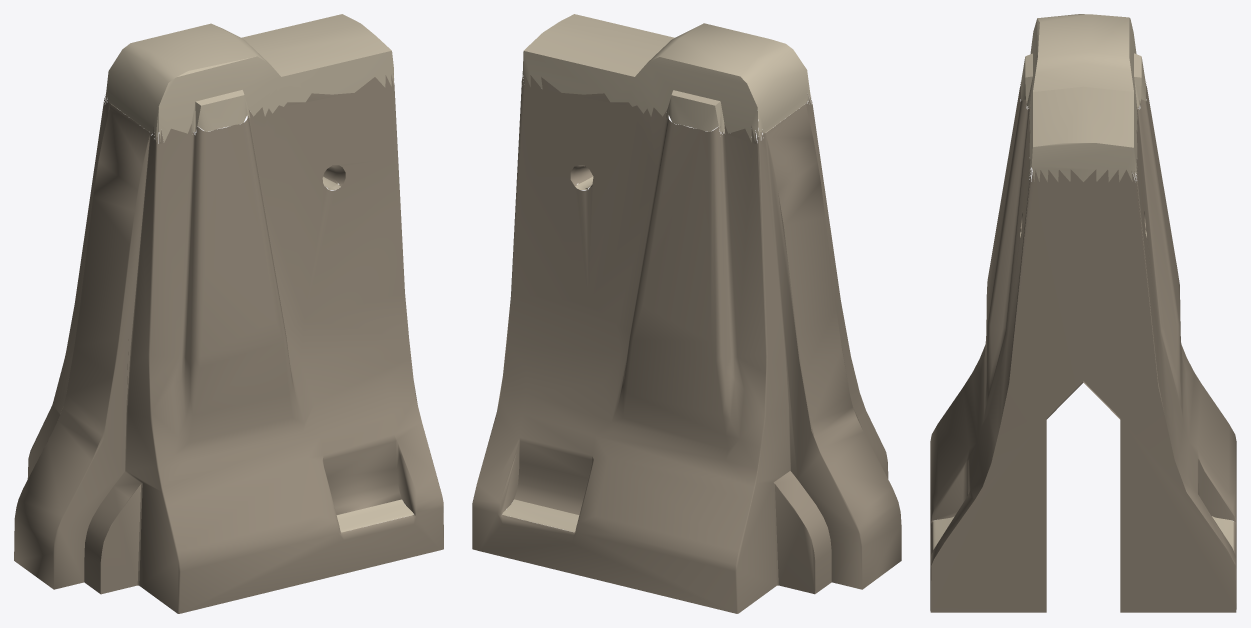
The model's file is stone-wall-e.glb.
3 views of the same model, side by side, from view 1: azimuth 30°, elevation 25°; view 2: azimuth 150°, elevation 25°; view 3: azimuth 270°, elevation 25° (orthographic).
Visible parts, largest first — view 1: body; view 2: body; view 3: body.
Part boxes in pixels (x1=…): body: x1=14, y1=14, x2=443, y2=613; body: x1=472, y1=14, x2=901, y2=613; body: x1=930, y1=14, x2=1236, y2=612.
Bounding box in the file's own units: 0.952 × 1.32 × 0.7437.
